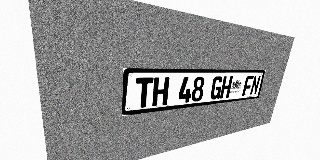4: (178, 77, 194, 103)
8: (191, 76, 206, 102)
F: (242, 76, 254, 96)
G: (209, 76, 223, 100)
H: (152, 77, 170, 106), (220, 76, 233, 99)
N: (249, 76, 261, 95)
T: (135, 77, 153, 108)
